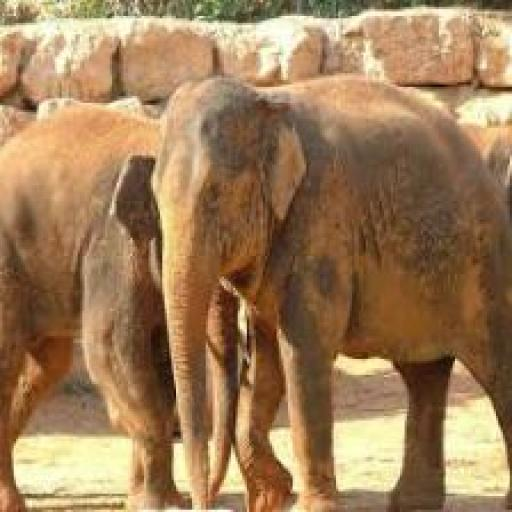Elephant: (2, 82, 511, 512)
